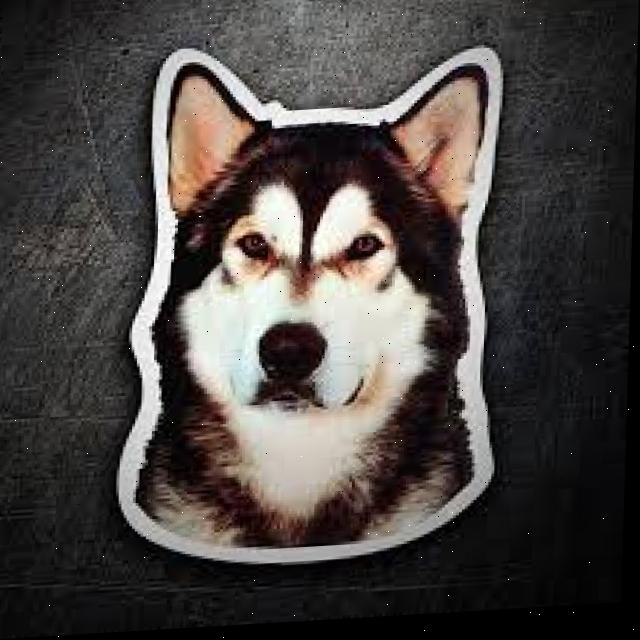ALASKAN_MALAMUTE: (85, 34, 553, 575)
